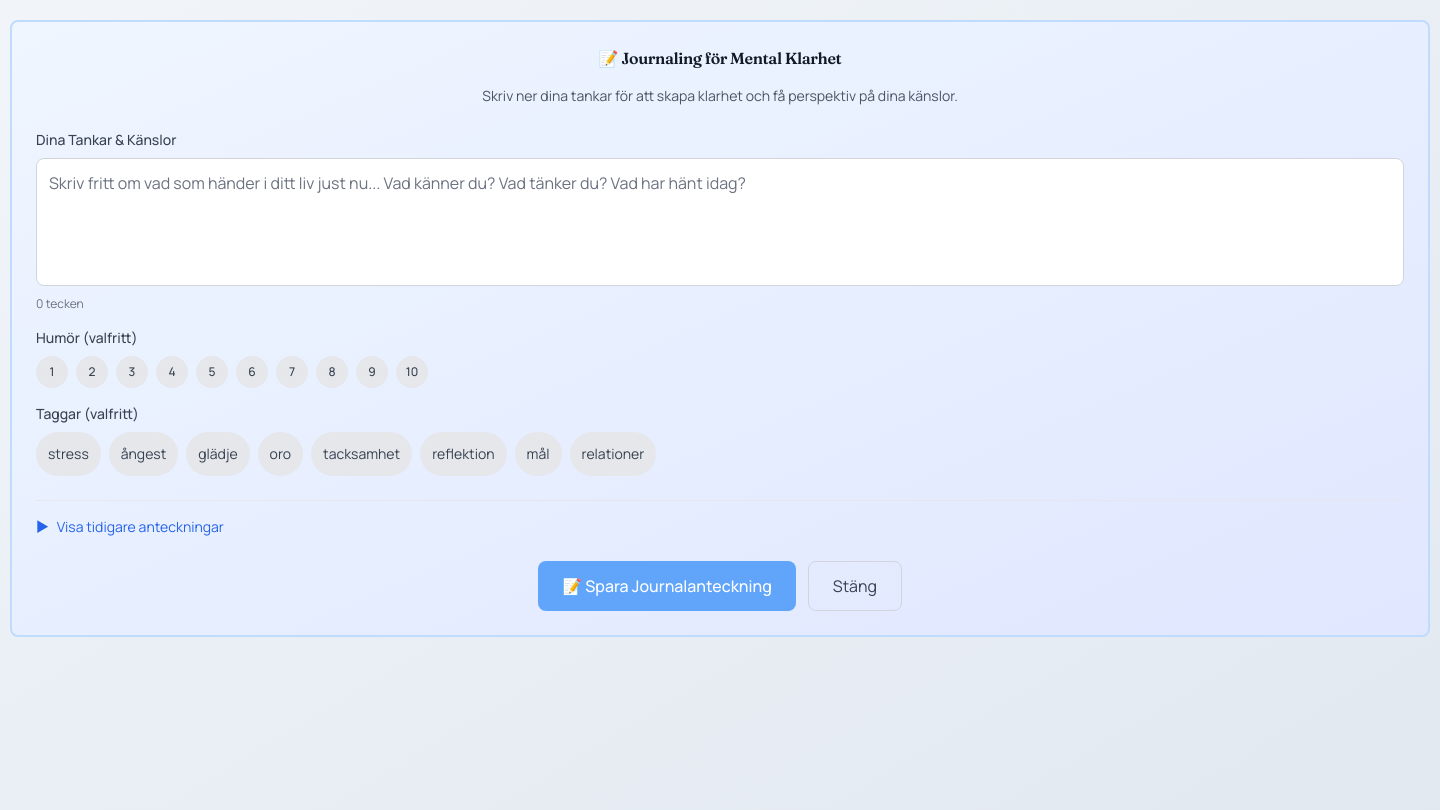
Test case: JournalingPrompt › should toggle journal history
Click the button "▶ Visa tidigare anteckningar" at (130, 527), box [36, 517, 224, 537]
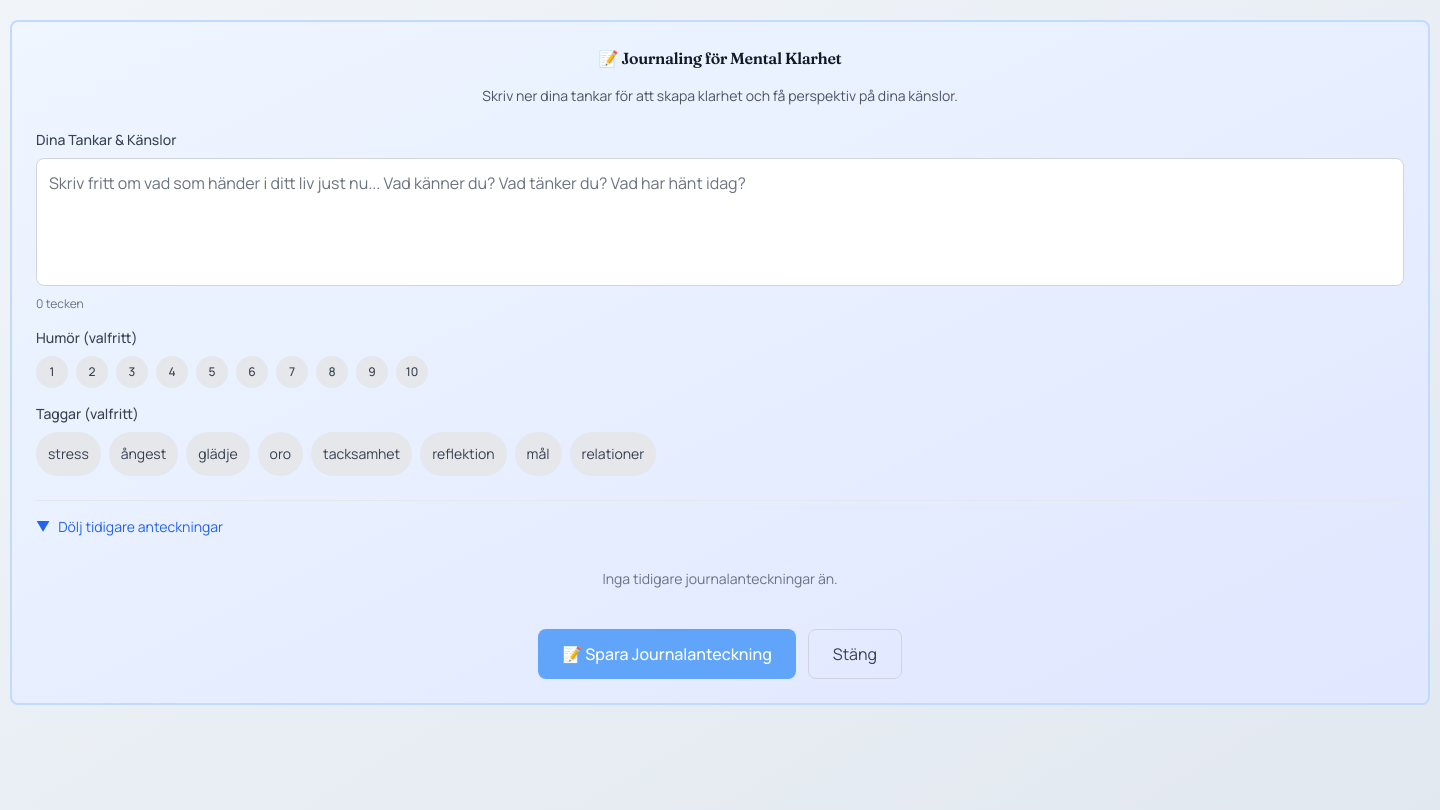
Expected: the button "▼ Dölj tidigare anteckningar" is shown, [36, 517, 223, 537]
